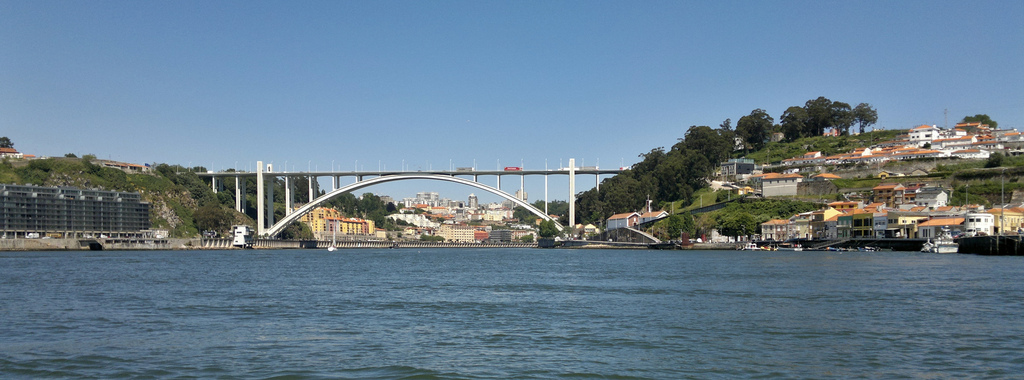arrabida: (182, 157, 637, 241)
